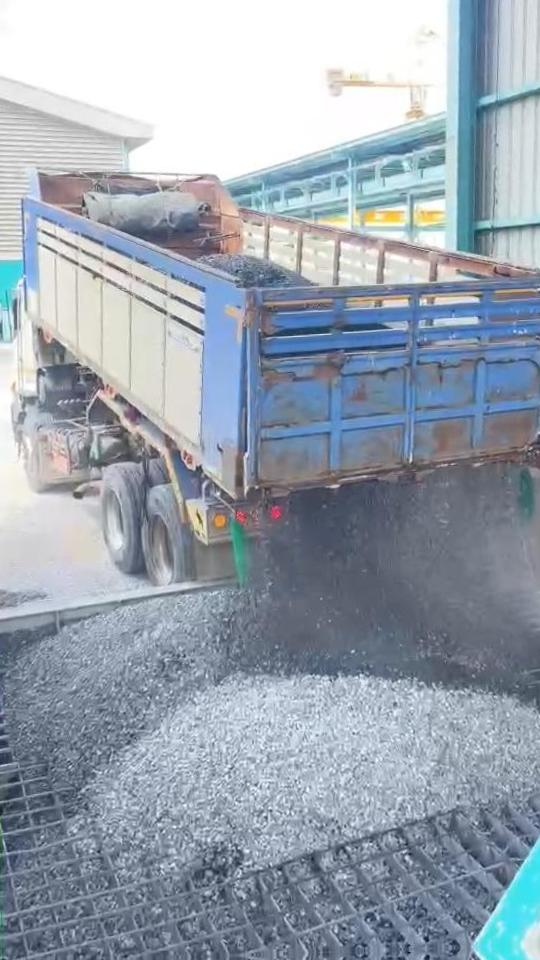gravel: (3, 589, 540, 874), (256, 466, 540, 689), (199, 254, 313, 287)
